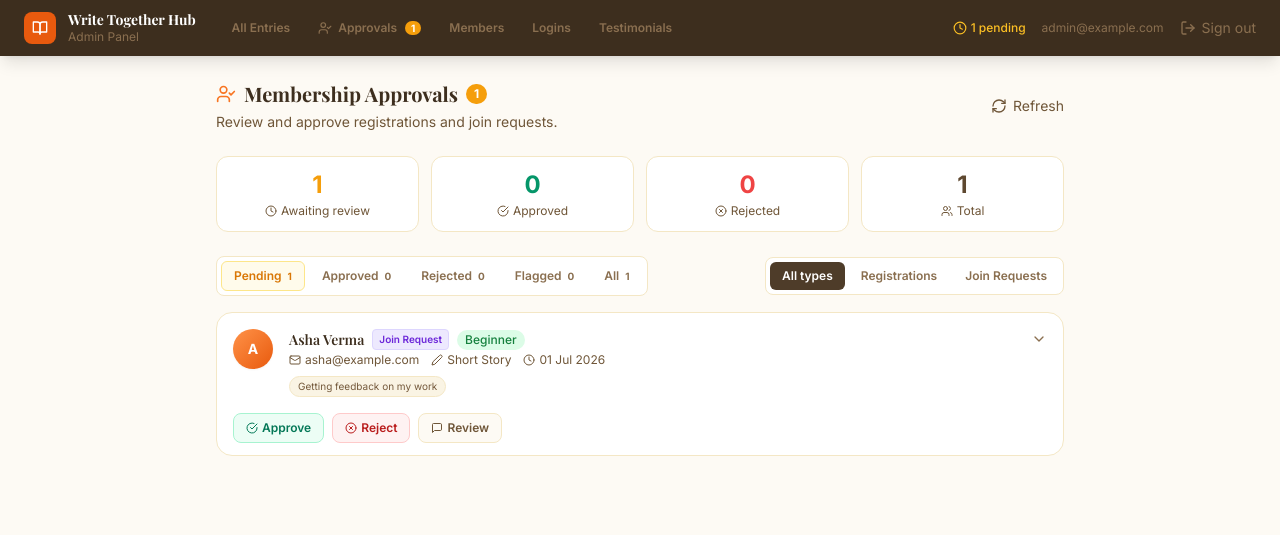
Test: AdminApprovals approve flow › keeps the applicant pending and shows the error when approval fails
The image size is (1280, 535).
Click the button "Approve": (279, 428) [233,413,324,443]
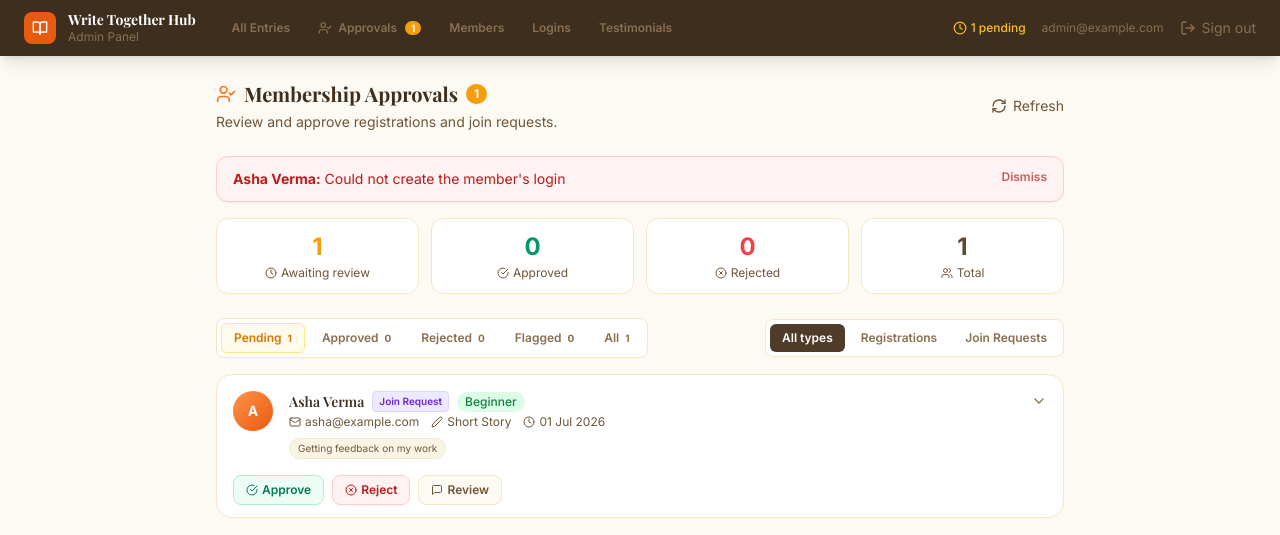
Result: the text "Asha Verma: Could not create the member's login" is shown at [233,169,566,189]
